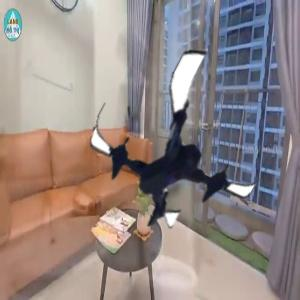drone: (87, 48, 278, 239)
